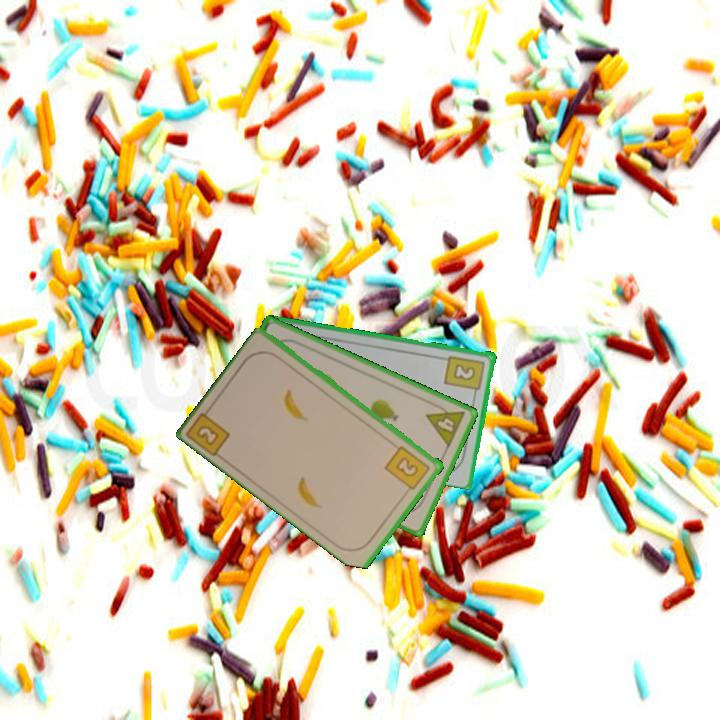2b: (185, 401, 234, 459), (382, 442, 433, 496), (442, 352, 488, 398)
4p: (423, 398, 468, 450)
